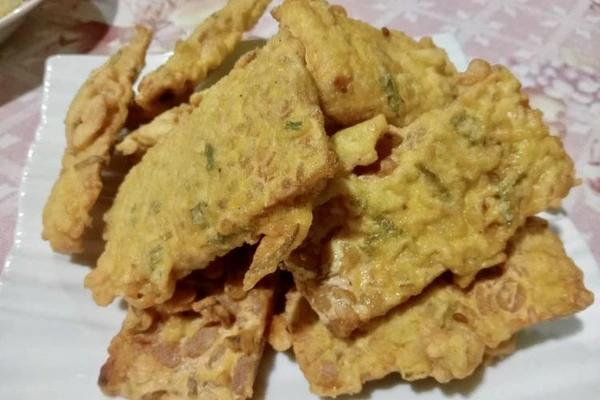kacang_legume: (112, 79, 495, 303)
